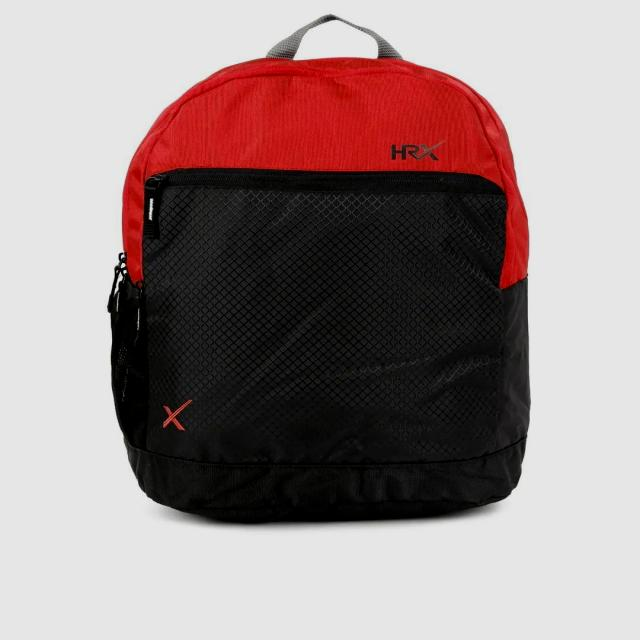backpack: (108, 15, 532, 524)
